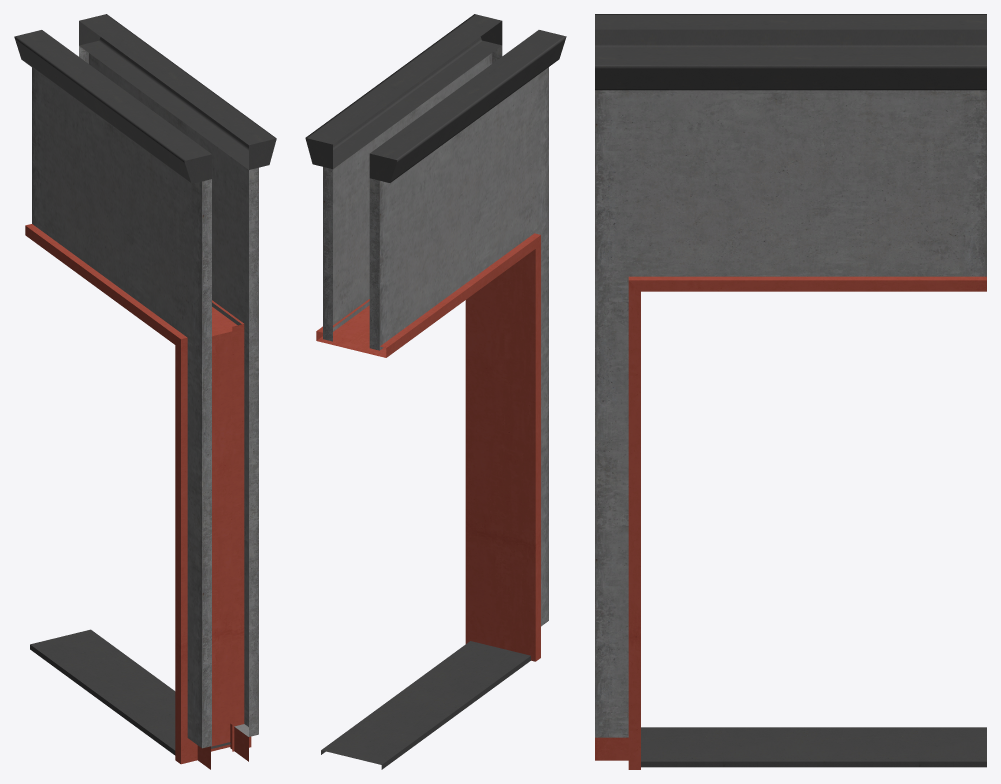
File: SM_dev_wall_glass_holder_200_x_400_l.fbx
3 views of the same model, side by side, from view 1: azimuth 30°, elevation 25°; view 2: azimuth 150°, elevation 25°; view 3: azimuth 270°, elevation 25° (orthographic). The views are drawn at different scales.
Parts seen in each view (by area): view 1: polySurface888, polySurface891, polySurface894; view 2: polySurface888, polySurface894, polySurface891; view 3: polySurface888, polySurface891, polySurface894.
Part boxes in pixels (x1=…): polySurface888: x1=32, y1=46, x2=258, y2=748; polySurface891: x1=14, y1=14, x2=276, y2=755; polySurface894: x1=25, y1=224, x2=251, y2=769; polySurface888: x1=323, y1=46, x2=548, y2=626; polySurface894: x1=316, y1=233, x2=540, y2=661; polySurface891: x1=305, y1=14, x2=566, y2=769; polySurface888: x1=595, y1=90, x2=986, y2=737; polySurface891: x1=595, y1=14, x2=986, y2=767; polySurface894: x1=595, y1=276, x2=986, y2=769.
Size of the model in its own units: 0.6282 by 4 by 2.
